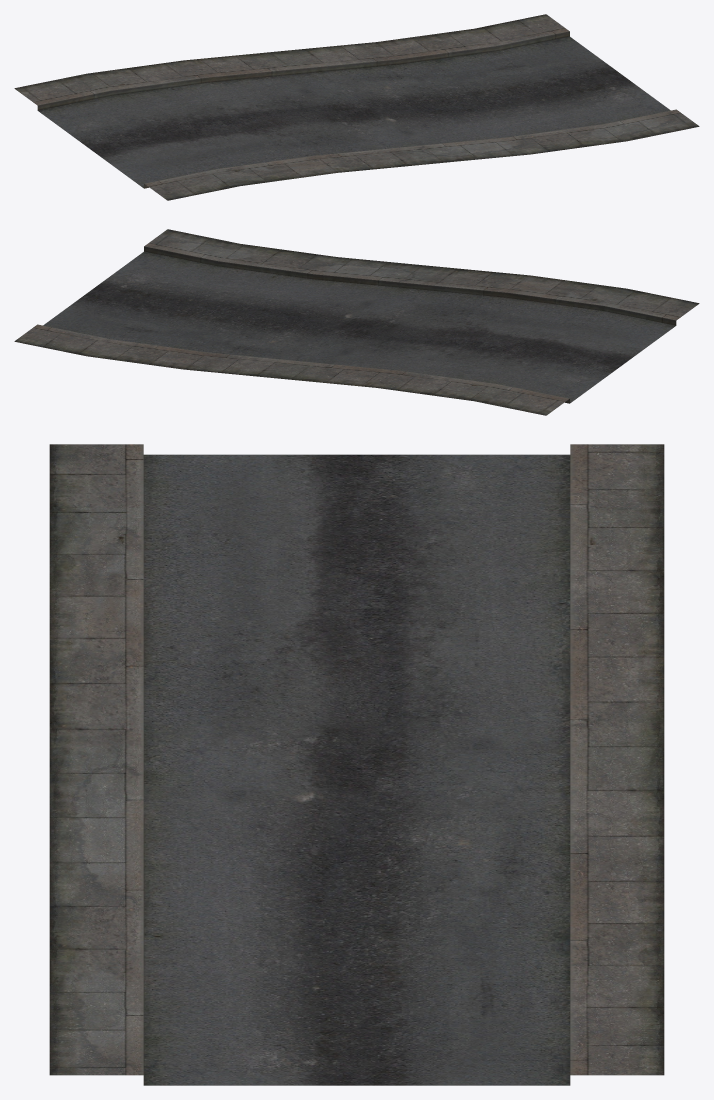
File: Road_set_v1_road_up_2m_HD.001.glb
3 renders of one model, top to bottom at view 1: azimuth 30°, elevation 25°; view 2: azimuth 150°, elevation 25°; view 3: azimuth 270°, elevation 25°, orthographic. The views are drawn at different scales.
Visible parts, largest first — view 1: Road_set_v1_road_up_2m_HD.001; view 2: Road_set_v1_road_up_2m_HD.001; view 3: Road_set_v1_road_up_2m_HD.001.
Part boxes in pixels (box(x1,y1,x2,y2)): Road_set_v1_road_up_2m_HD.001: box(14, 14, 699, 200); Road_set_v1_road_up_2m_HD.001: box(14, 229, 699, 415); Road_set_v1_road_up_2m_HD.001: box(49, 444, 664, 1085).
Size of the model in its own units: 20 by 2.18 by 10.
1 material, 1 textured.
